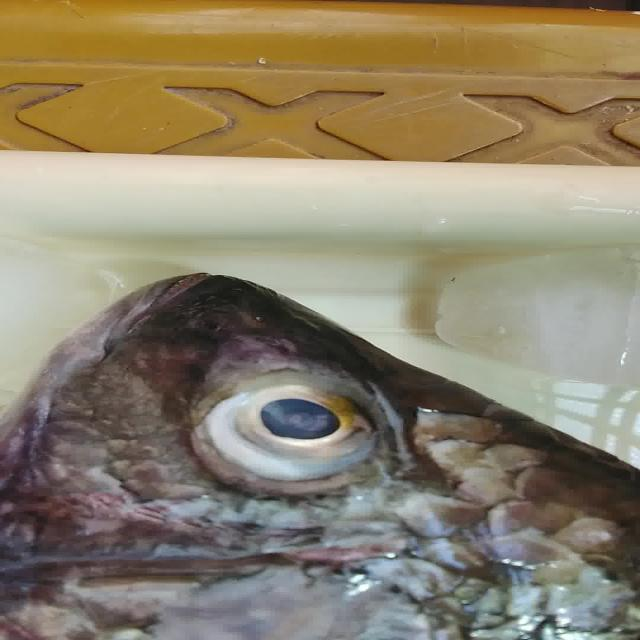Fresh: (174, 360, 411, 491)
